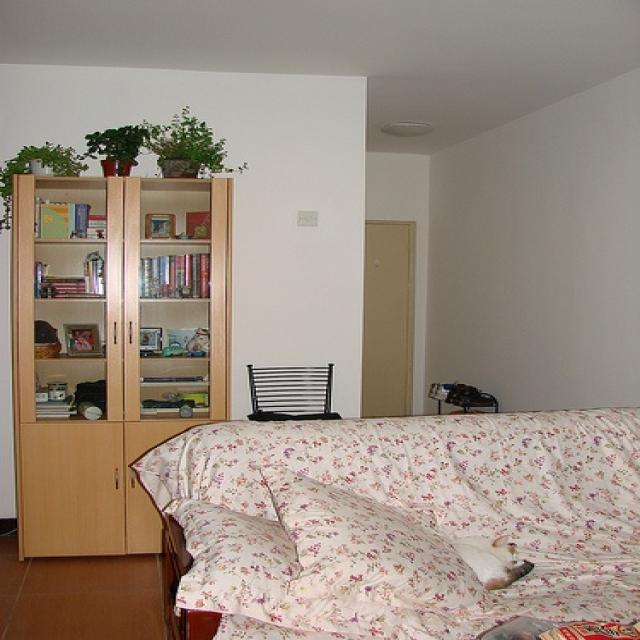cat: (452, 530, 538, 589)
chair: (242, 361, 342, 420)
pottedplant: (150, 108, 234, 176), (84, 123, 148, 177), (2, 142, 84, 177)
sofa: (150, 404, 638, 638)
